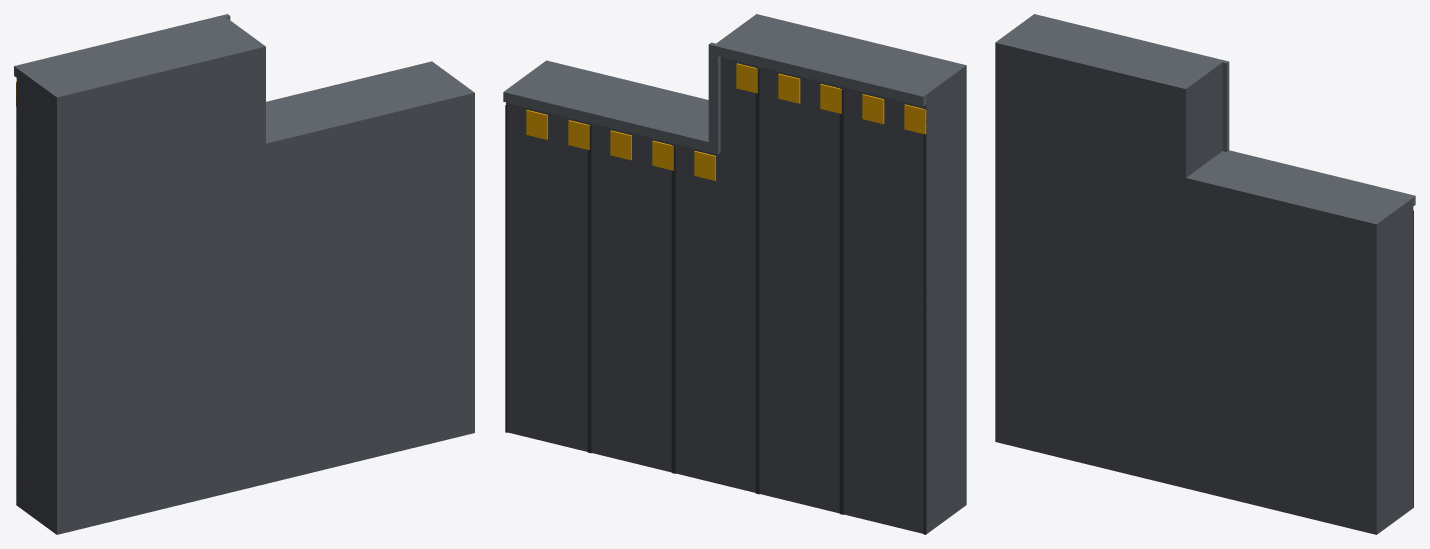
3 renders of one model, left to right at view 1: azimuth 30°, elevation 25°; view 2: azimuth 150°, elevation 25°; view 3: azimuth 330°, elevation 25°, orthographic. The views are drawn at different scales.
Visible parts, largest first — view 1: s2wf; view 2: s2wf; view 3: s2wf.
Boxes of the visible parts, x1,y1,x2,y2 form: s2wf: (14,14,474,534); s2wf: (503,14,966,534); s2wf: (995,14,1415,534).
Bounding box in the file's own units: 9 × 9 × 1.6.
